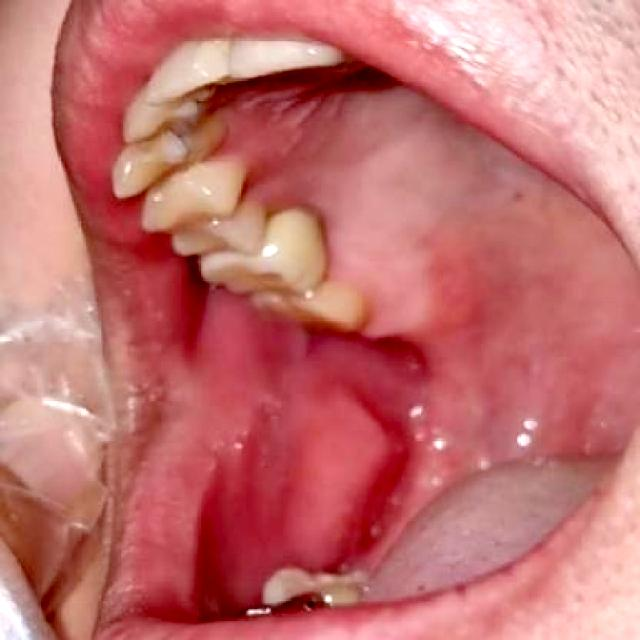Plaque: (263, 178, 366, 264)
